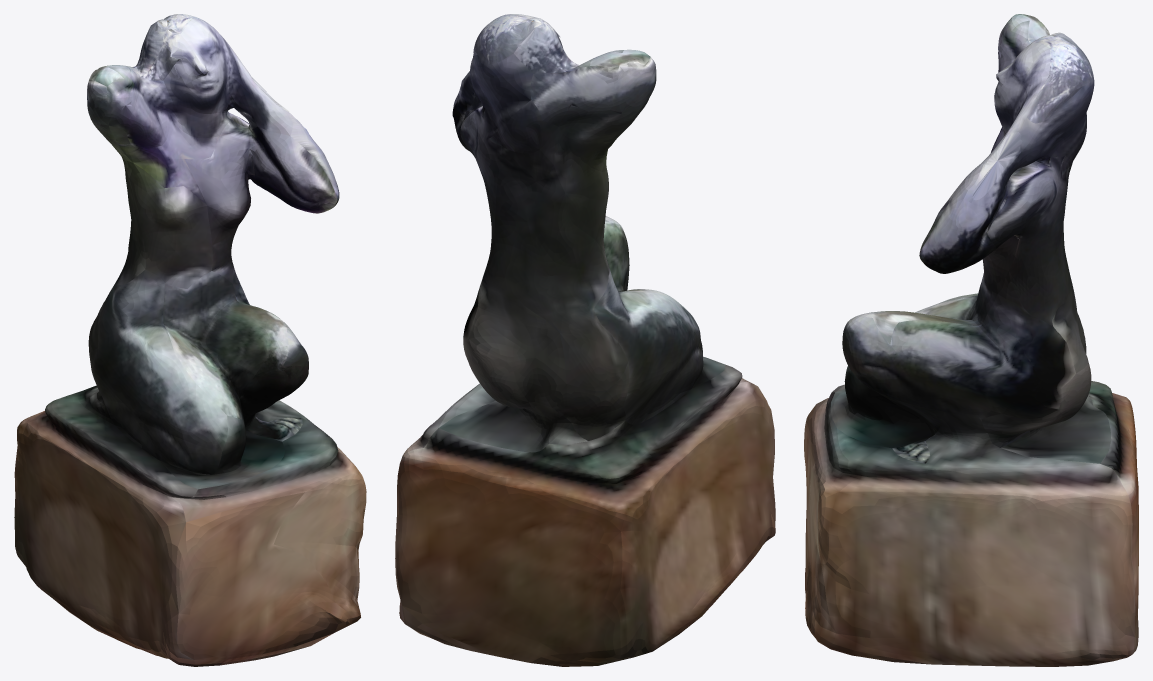
File: sculpture_73bc5f55.glb
The picture shows the model from 3 angles, left to right: view 1: azimuth 30°, elevation 25°; view 2: azimuth 150°, elevation 25°; view 3: azimuth 270°, elevation 25°; orthographic projection. The views are drawn at different scales.
Parts seen in each view (by area): view 1: Object_3; view 2: Object_3; view 3: Object_3.
Part boxes in pixels (x1,y1,x2,y2): Object_3: [14, 14, 366, 666]; Object_3: [395, 14, 775, 666]; Object_3: [804, 14, 1138, 666].
Bounding box in the file's own units: 0.9253 × 2.05 × 1.06.
1 material, 1 textured.
